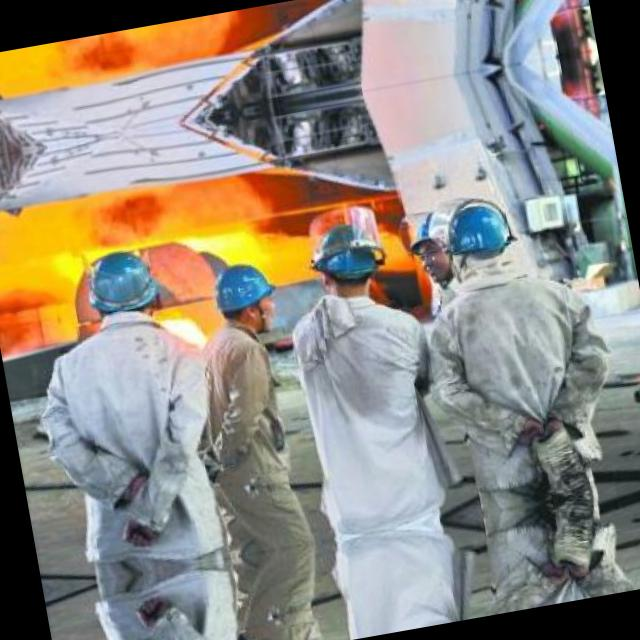helmet: (436, 191, 524, 295), (74, 248, 162, 328), (208, 250, 278, 336), (308, 223, 382, 302), (400, 206, 463, 282)
